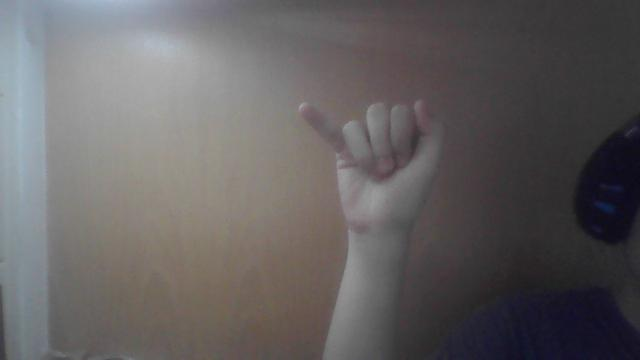Right: (295, 97, 459, 233)
